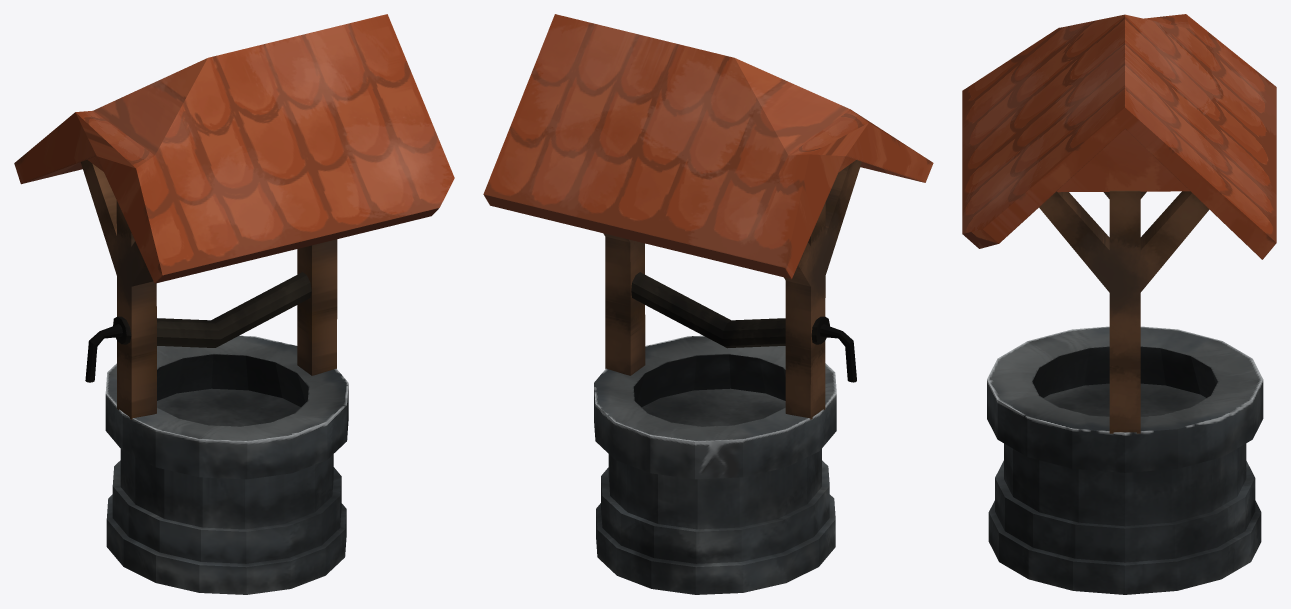
File: ruined_su_kuyusu_with_txt.fbx
3 views of the same model, side by side, from view 1: azimuth 30°, elevation 25°; view 2: azimuth 150°, elevation 25°; view 3: azimuth 270°, elevation 25° (orthographic). The views are drawn at different scales.
Visible parts, largest first — view 1: Ruined_sukuyusu; view 2: Ruined_sukuyusu; view 3: Ruined_sukuyusu.
Part boxes in pixels (left/top/right/bottom): Ruined_sukuyusu: left=14, top=14, right=454, bottom=594; Ruined_sukuyusu: left=483, top=14, right=933, bottom=594; Ruined_sukuyusu: left=962, top=14, right=1276, bottom=594.
Bounding box in the file's own units: 431 × 667 × 368.
Materials: 4 (4 with a texture image).
